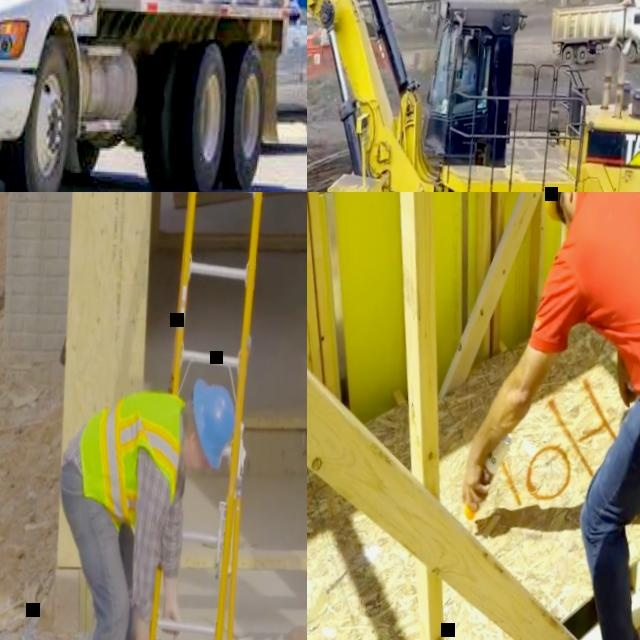Hardhat: (189, 379, 239, 469), (538, 192, 600, 222)
NO-Hardhat: (467, 38, 476, 48)
NO-Mask: (185, 449, 199, 471)
NO-Safety Vest: (562, 192, 640, 393), (459, 59, 476, 95)
Person: (451, 192, 640, 640), (51, 374, 239, 640), (455, 36, 478, 98)
Safety Vest: (77, 388, 186, 537)
machinery: (307, 0, 640, 192), (0, 0, 305, 192), (545, 0, 640, 76), (307, 18, 388, 80)
vehicle: (271, 0, 307, 151)
